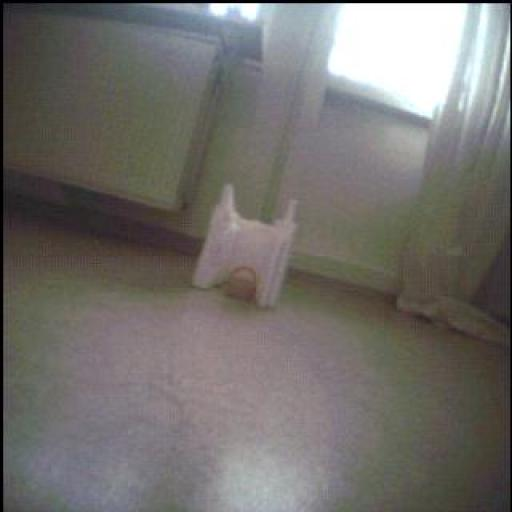Basket: (224, 266, 259, 304)
